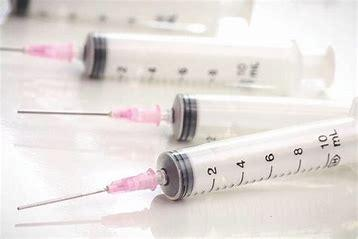Syringe: (8, 22, 353, 88), (9, 146, 278, 215), (6, 84, 227, 138)
